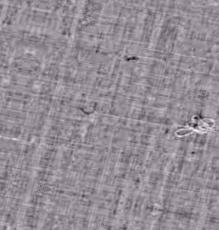snag: (170, 106, 217, 143)
